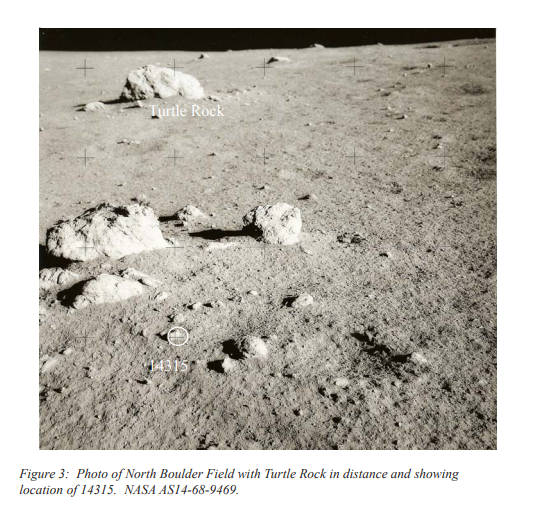Breccia: (36, 196, 226, 289), (236, 195, 349, 252)
